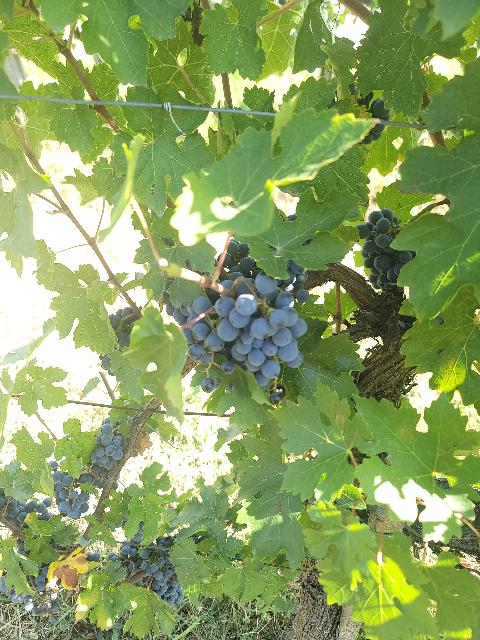grapes: (205, 274, 309, 386), (356, 208, 416, 290), (51, 470, 95, 520), (90, 418, 125, 475), (109, 306, 139, 350)
